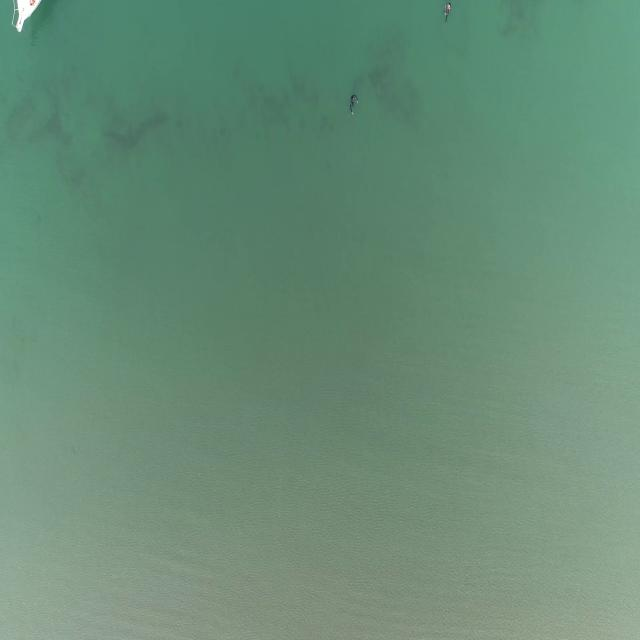person: (347, 93, 361, 116), (442, 4, 453, 24)
